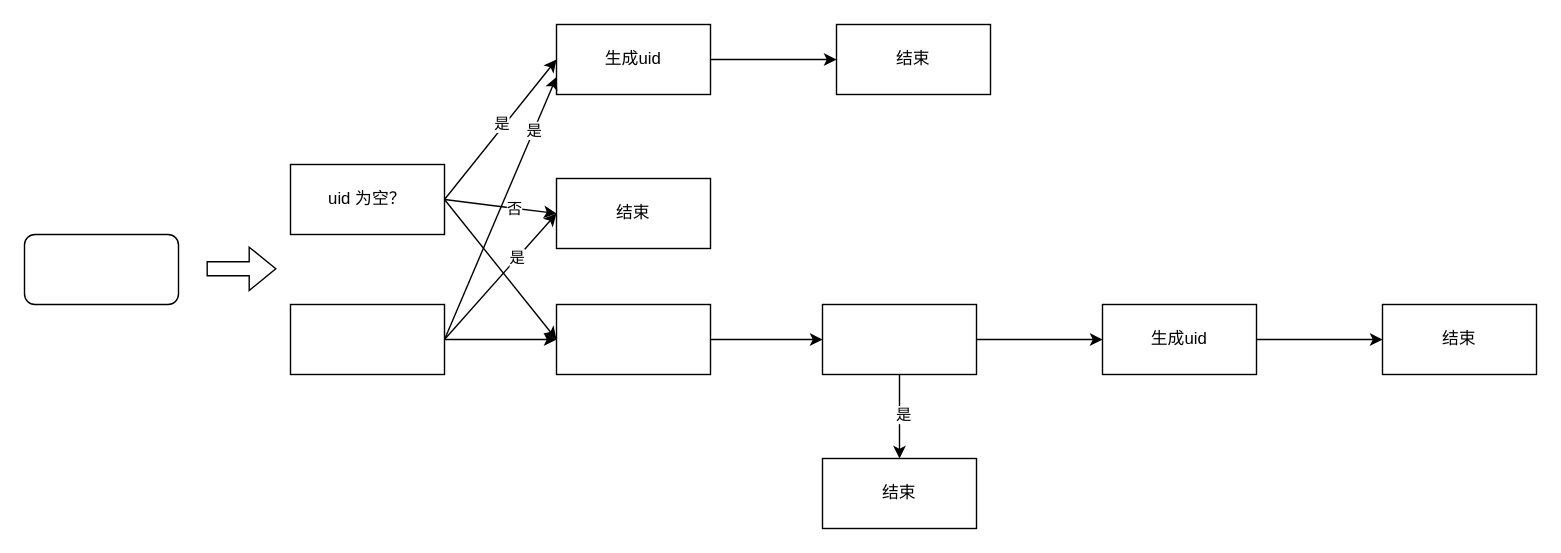
The diagram is 1561 pixels wide and 553 high, and some of its shapes have lost their labels. Each missing label, with the box of its shape:
receipt为空？: (289, 303, 444, 374)
开始: (23, 233, 178, 304)
查询订单信息是否绑定过uid: (821, 303, 976, 374)
解析recept: (555, 303, 710, 374)
